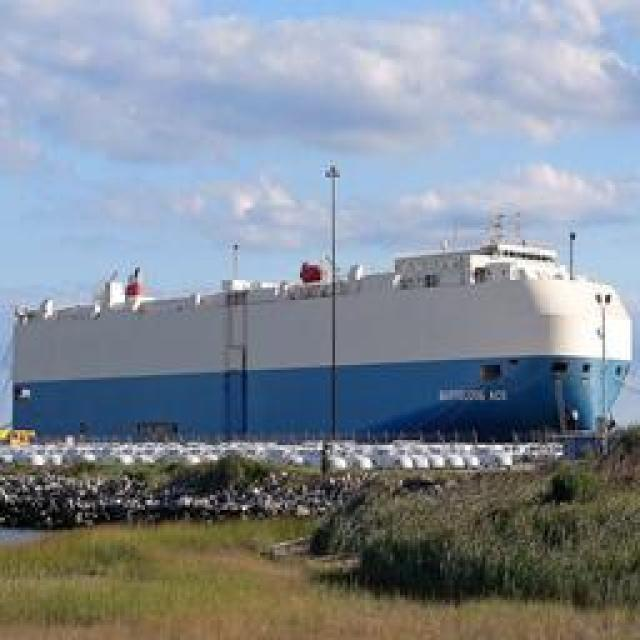ship2: (12, 207, 634, 444)
